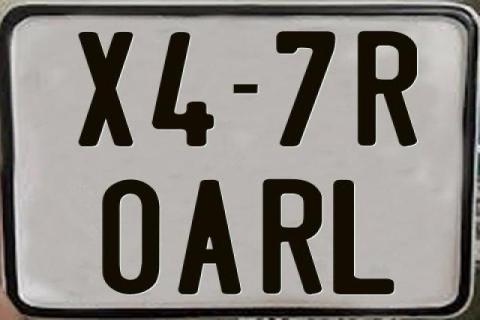0: (273, 30, 338, 148), (101, 178, 163, 298), (150, 32, 212, 149)
A: (177, 180, 244, 298)
L: (331, 177, 396, 297)
R: (261, 178, 324, 294), (358, 29, 417, 145)
X: (77, 32, 133, 146)
